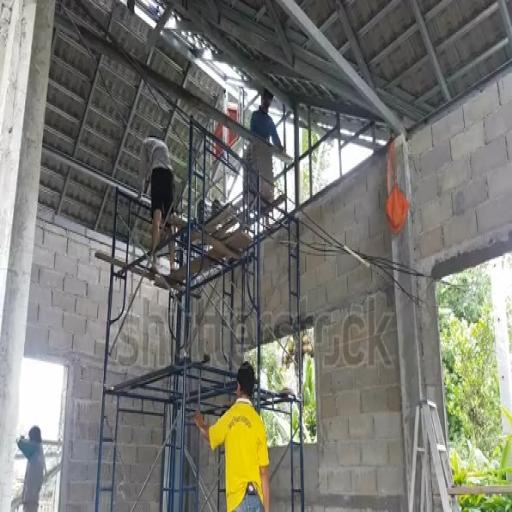head and helmet: (18, 426, 42, 460), (237, 362, 255, 399), (262, 89, 274, 112), (29, 426, 42, 443)
